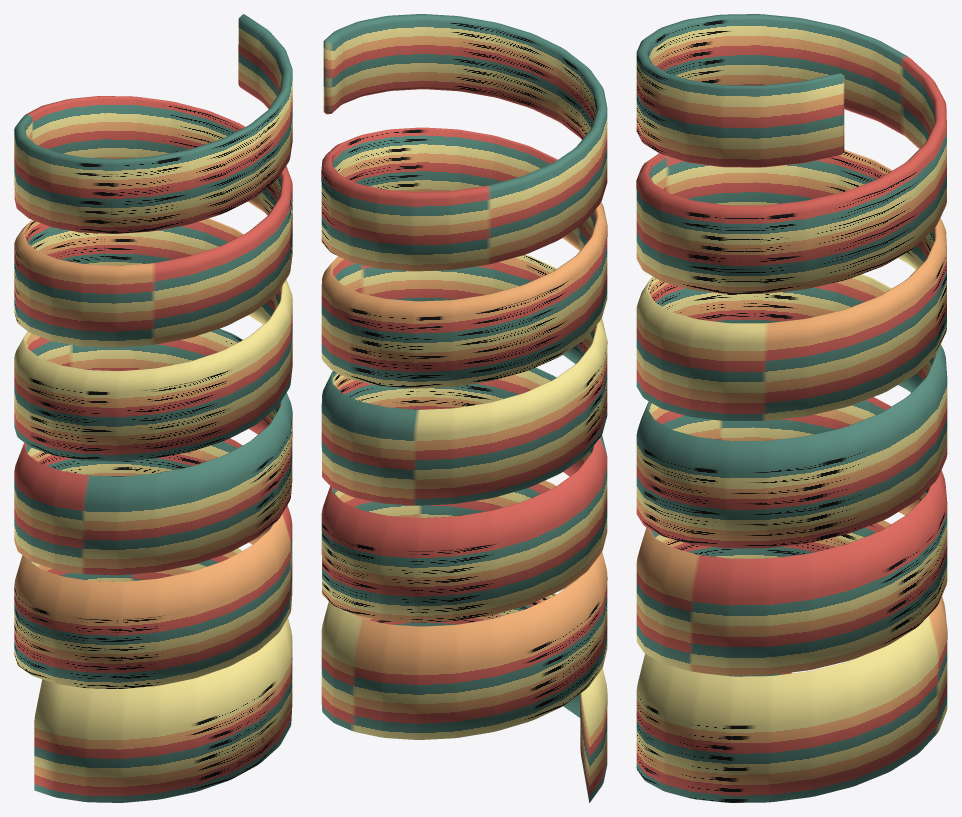
File: spiral-thick.fbx
3 views of the same model, side by side, from view 1: azimuth 30°, elevation 25°; view 2: azimuth 150°, elevation 25°; view 3: azimuth 270°, elevation 25° (orthographic). The views are drawn at different scales.
Visible parts, largest first — view 1: NurbsPath; view 2: NurbsPath; view 3: NurbsPath.
Part boxes in pixels (box(x1,y1,x2,y2)): NurbsPath: box(14, 14, 292, 802); NurbsPath: box(321, 14, 607, 802); NurbsPath: box(636, 14, 947, 802).
Bounding box in the file's own units: 216 × 600 × 216.
